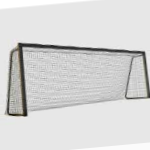goals: (4, 41, 150, 120)
